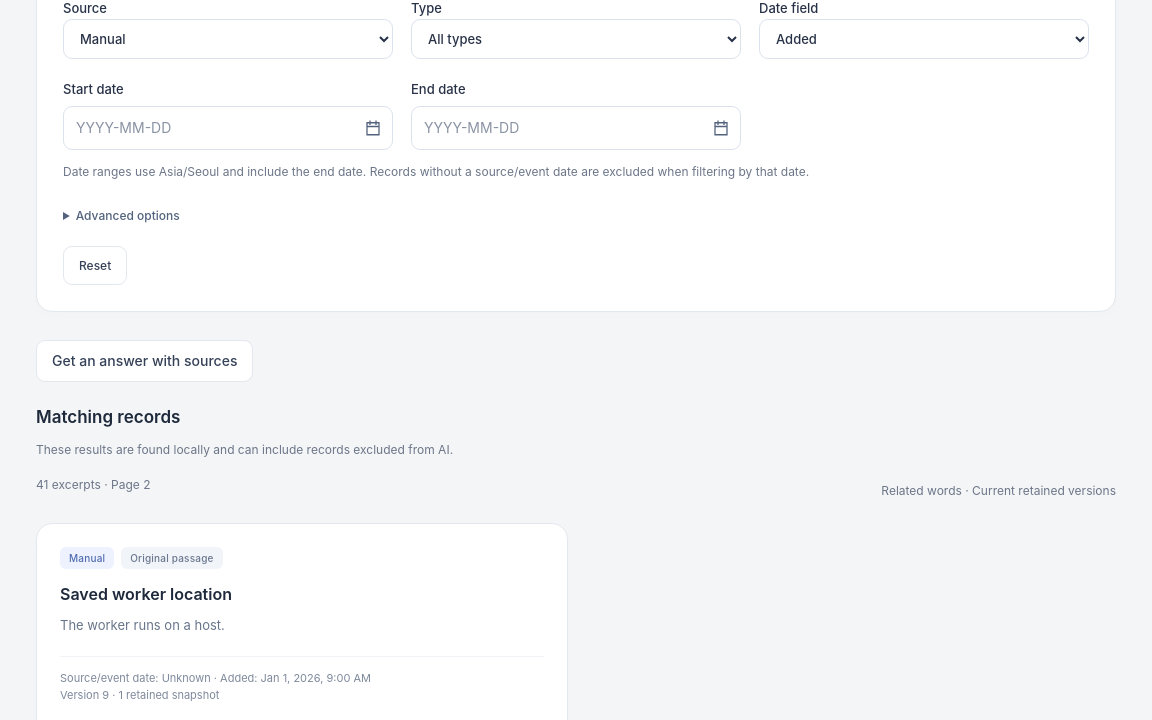
Scenario: returns from a stable citation to the saved conversation without replay
(page scrolled)
Check: the heading "Saved worker location" is shown, box top-left (60, 584), bottom-right (232, 604)
Click the button "Get an answer with sources".
click(145, 361)  # box top-left (36, 340), bottom-right (253, 382)
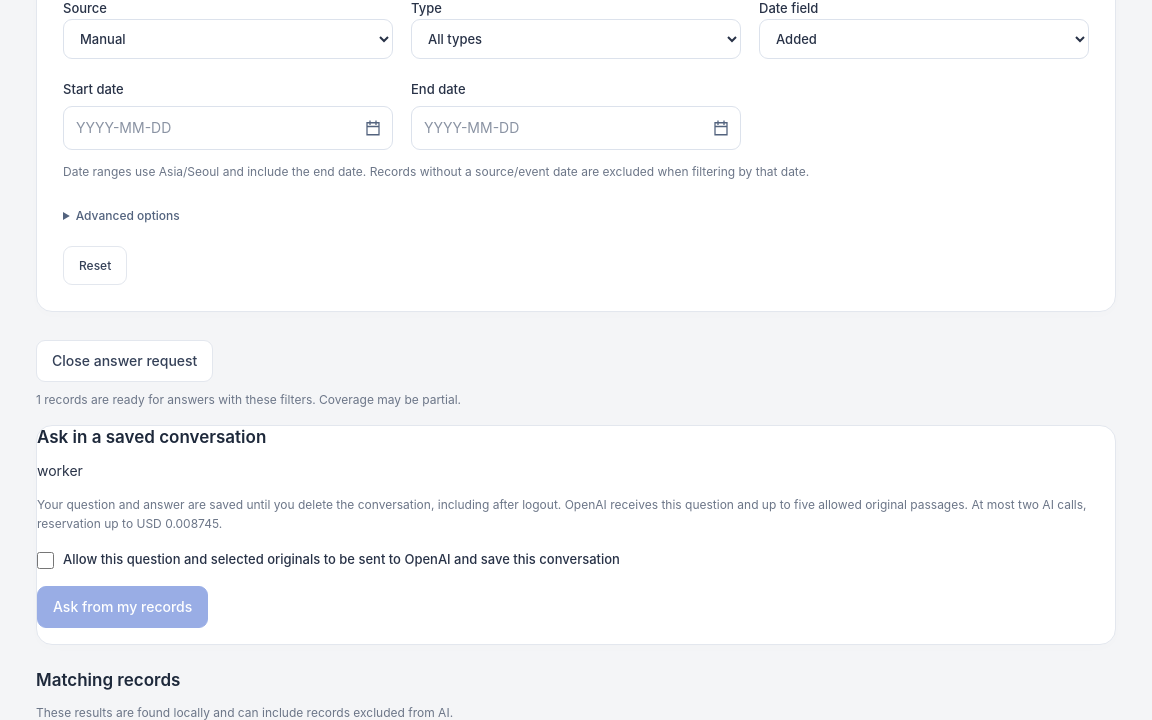
Check: the checkbox named "Allow this question and selected originals to be sent to OpenAI and save this conversation" is enabled
Click the checkbox named "Allow this question and selected originals to be sent to OpenAI and save this conversation".
click(46, 561)  # box top-left (37, 552), bottom-right (54, 569)
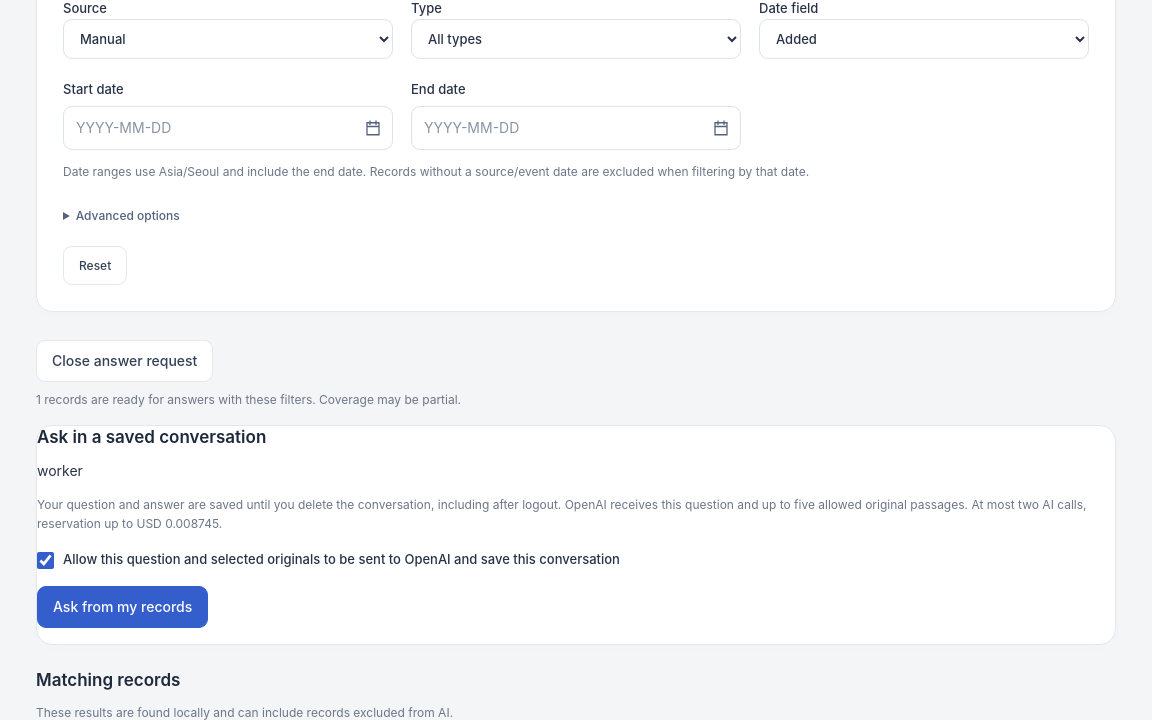
Click the button "Ask from my records".
click(123, 607)  # box top-left (37, 586), bottom-right (208, 628)
(page scrolled)
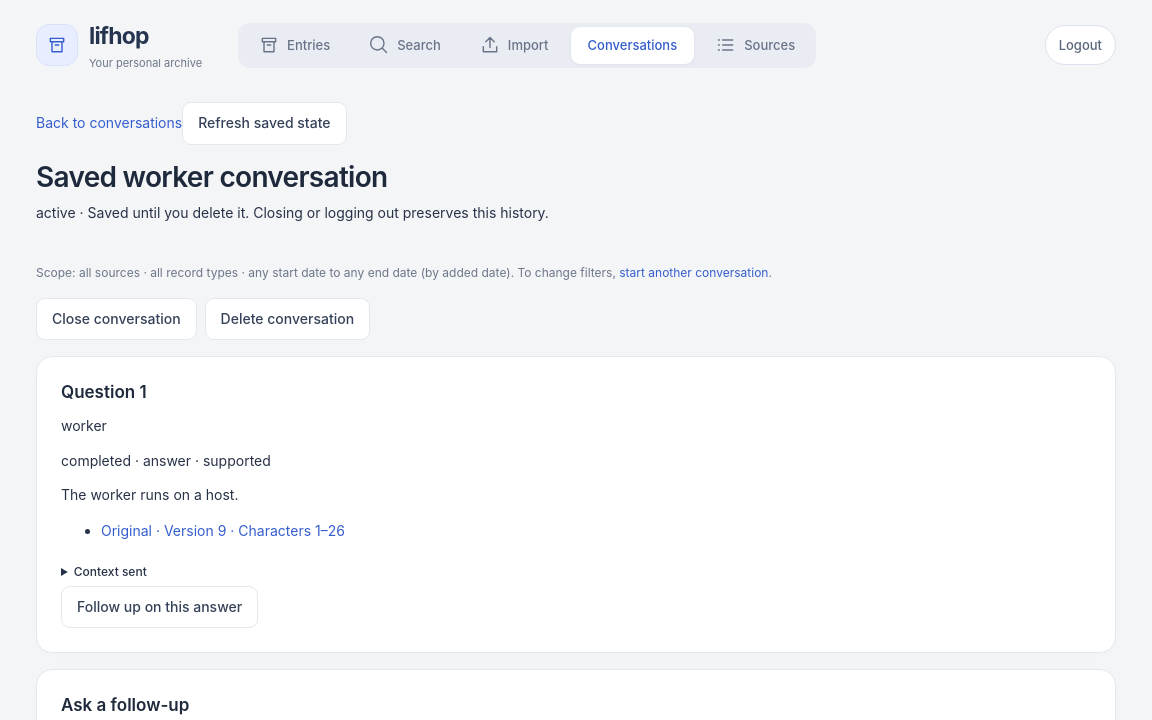
Check: the heading "Saved worker conversation" is shown, box top-left (36, 160), bottom-right (388, 194)
Click the link "Original · Version 9 · Characters 1–26".
click(159, 531)  # box top-left (101, 522), bottom-right (345, 539)
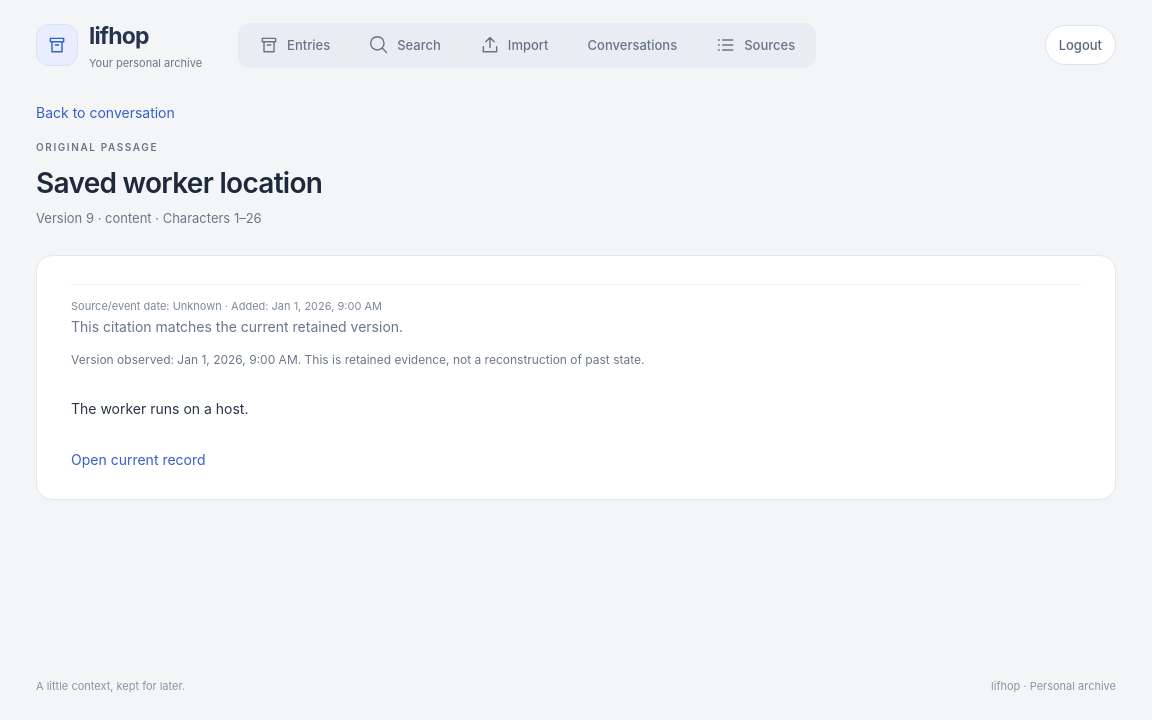
Check: the text "This citation matches the current retained version." is shown, box top-left (71, 318), bottom-right (403, 335)
Click the link "Back to conversation".
click(105, 113)  # box top-left (36, 104), bottom-right (175, 121)
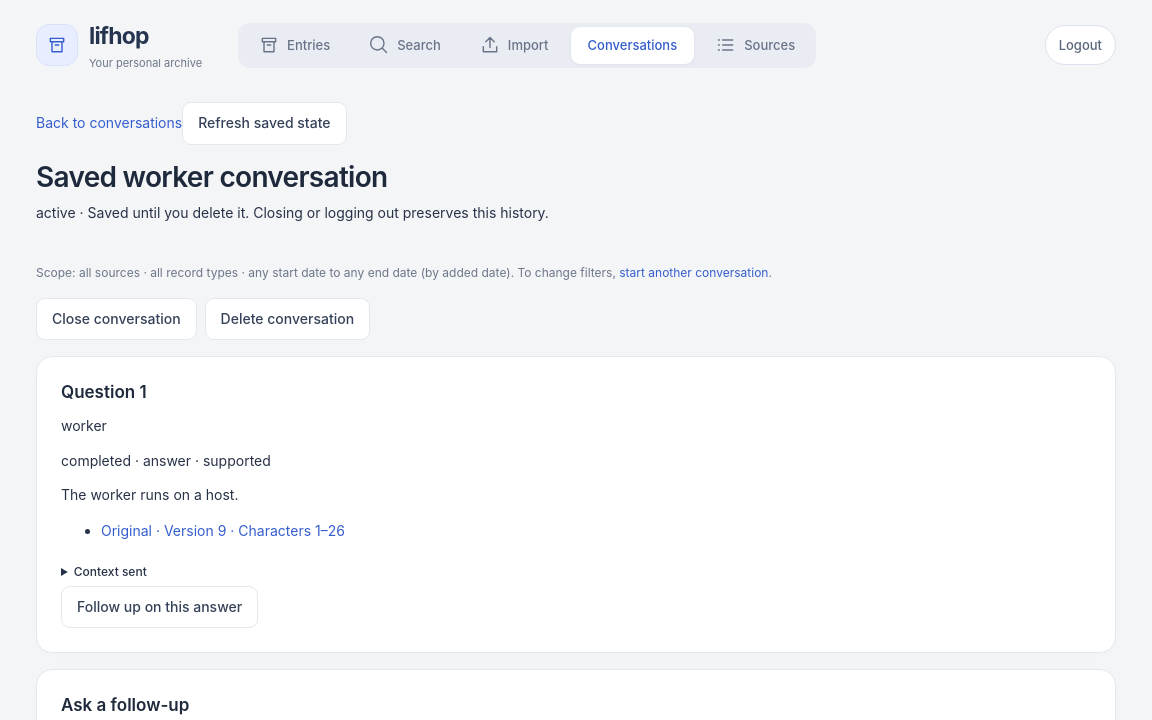
Check: the heading "Saved worker conversation" is shown, box top-left (36, 160), bottom-right (388, 194)
